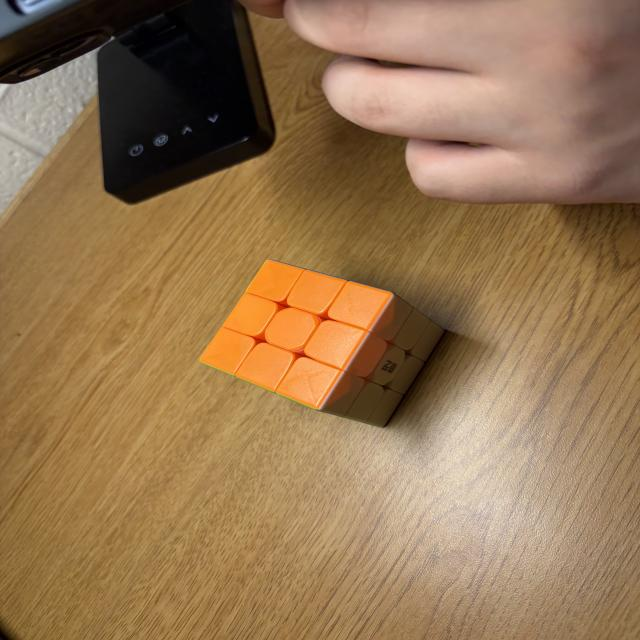Rubiks Cube: (198, 258, 446, 427)
